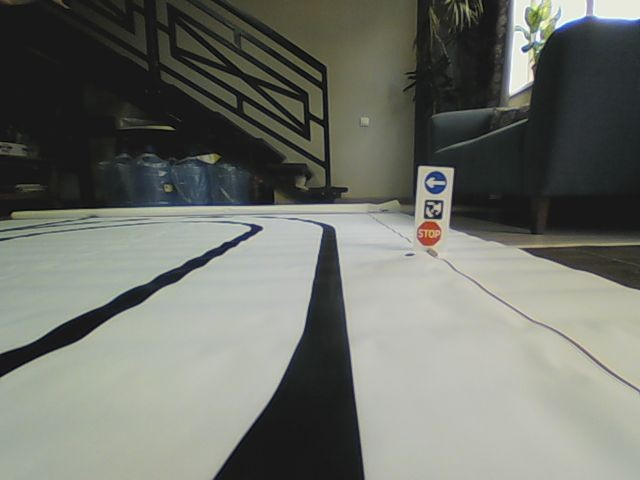Stop: (415, 220, 441, 246)
